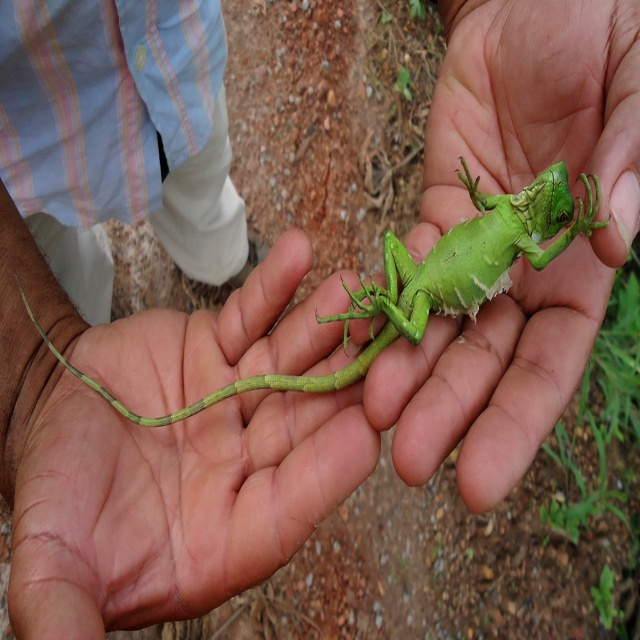Lizard: (15, 159, 610, 425)
